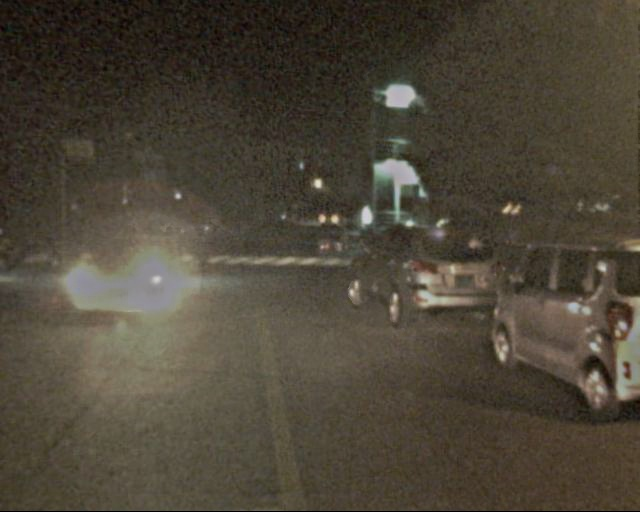person: (354, 222, 375, 274), (126, 217, 144, 261)
